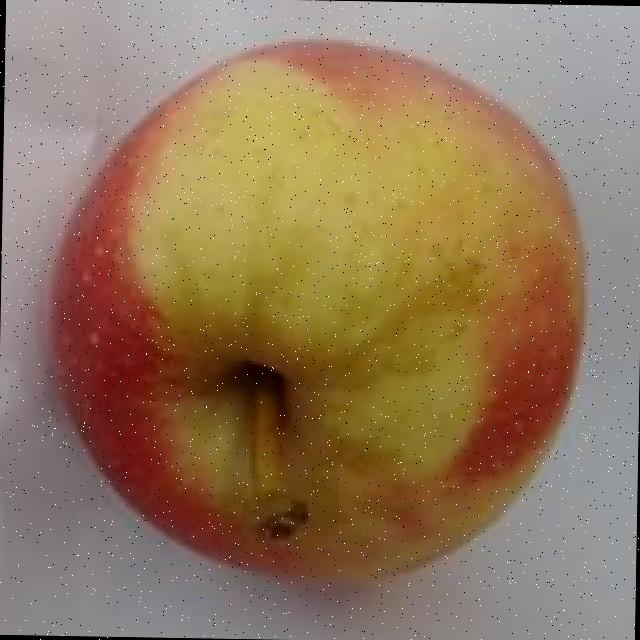apple: (23, 15, 624, 611)
